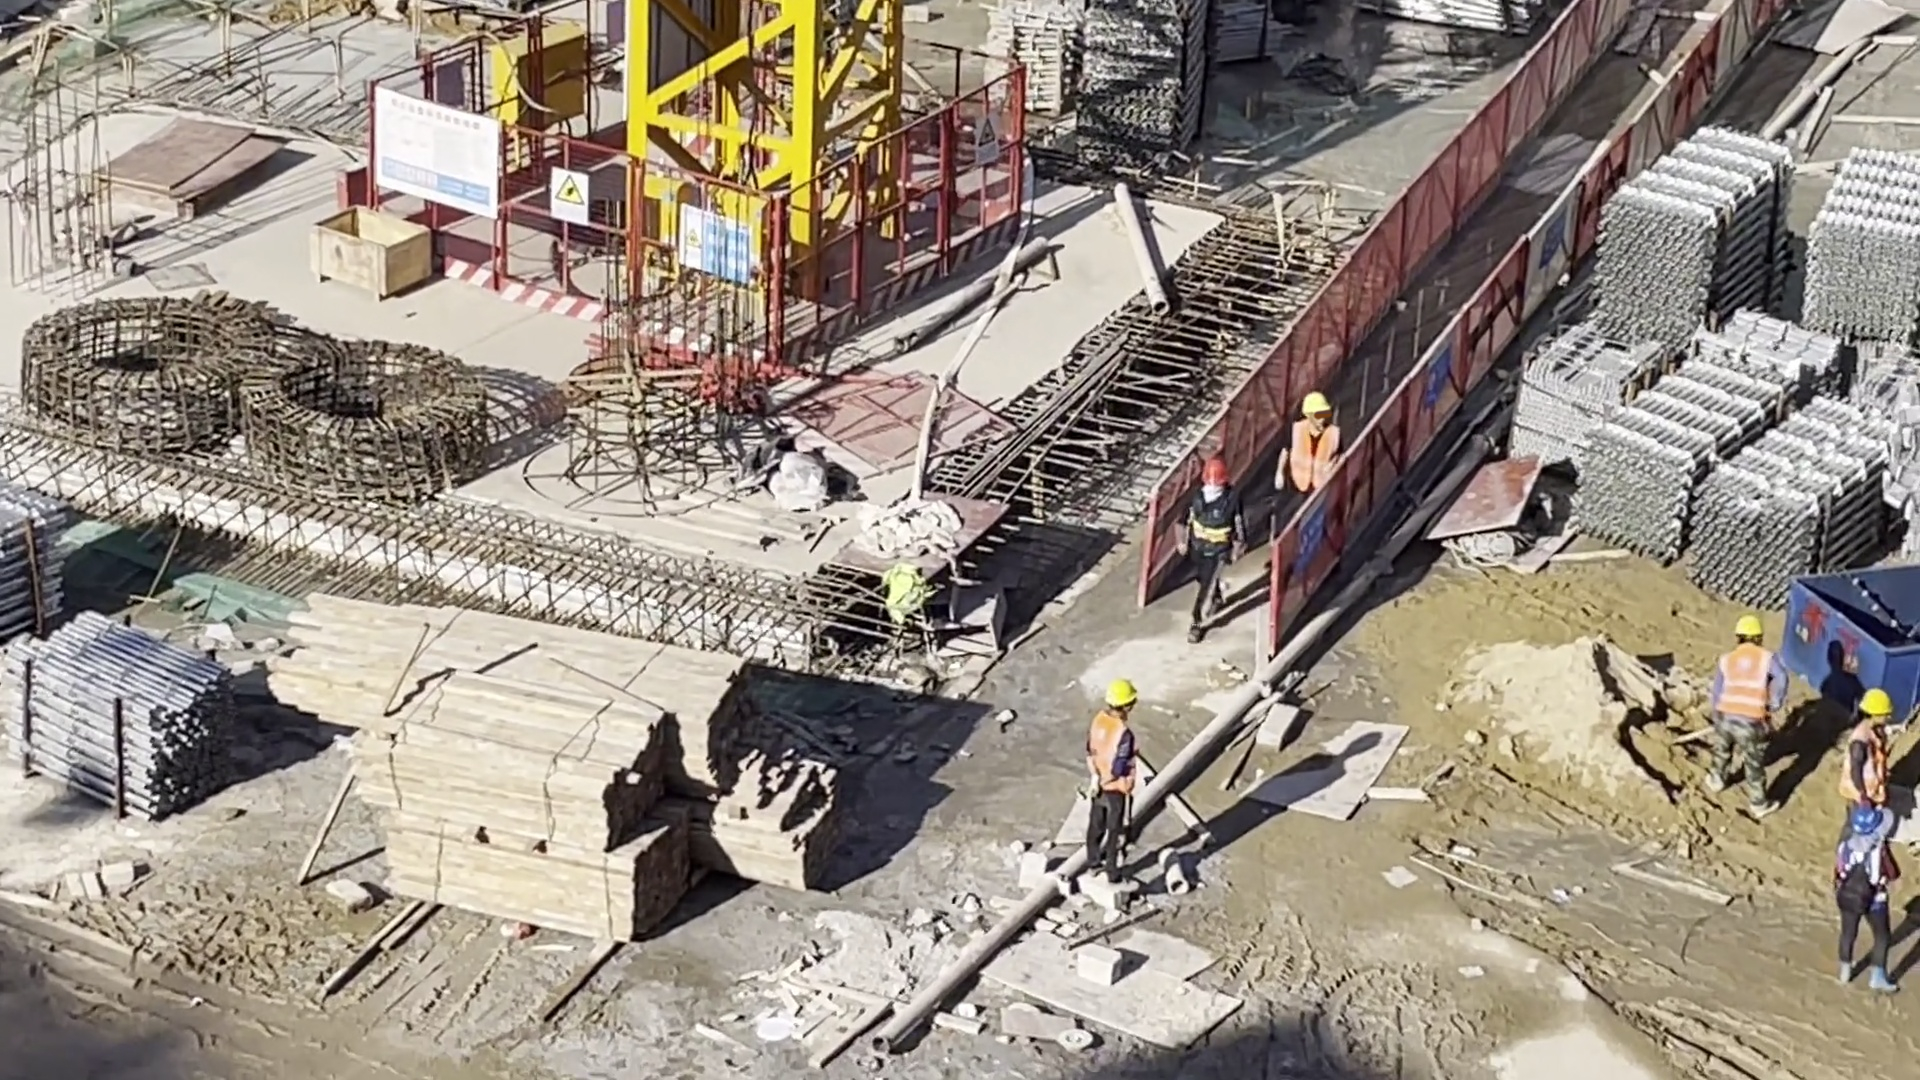board: (106, 123, 263, 200)
ebox: (497, 23, 579, 130)
fence: (1150, 1, 1765, 654)
helmet: (1849, 806, 1884, 832), (1859, 688, 1891, 717), (1105, 684, 1138, 707), (1201, 461, 1229, 486), (1303, 393, 1330, 415), (1736, 616, 1762, 636)
hopper: (1789, 560, 1920, 724)
person: (1716, 620, 1779, 801), (1086, 683, 1140, 883), (1844, 808, 1898, 999), (1189, 461, 1239, 646), (1278, 396, 1348, 506), (1851, 689, 1893, 839)
scaffold: (2, 619, 240, 818), (1582, 361, 1798, 564), (1701, 399, 1894, 610), (1601, 129, 1789, 343), (1016, 1, 1204, 147), (1808, 150, 1920, 345), (1, 509, 61, 641), (1205, 1, 1285, 72), (1370, 1, 1536, 34)
slogan: (681, 210, 752, 287), (1294, 501, 1327, 579), (1424, 338, 1451, 411), (552, 170, 590, 222), (973, 116, 998, 162)
vest: (1716, 642, 1775, 722), (1085, 714, 1138, 785), (1289, 421, 1338, 489), (1854, 720, 1892, 792), (1844, 843, 1883, 895)
wood: (308, 604, 750, 797), (386, 681, 689, 938)
